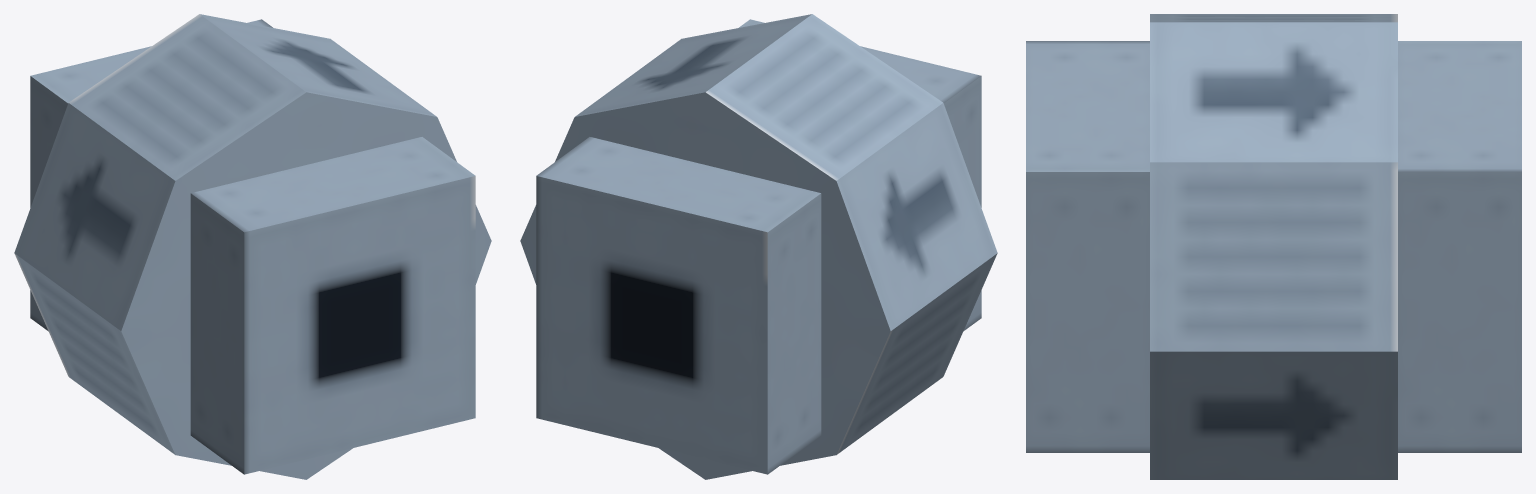
The model's file is AdvancedFluidInserter.dae.
3 views of the same model, side by side, from view 1: azimuth 30°, elevation 25°; view 2: azimuth 150°, elevation 25°; view 3: azimuth 270°, elevation 25° (orthographic). The views are drawn at different scales.
Parts seen in each view (by area): view 1: Inserter; view 2: Inserter; view 3: Inserter.
Boxes of the visible parts, box(x1,y1,x2,y2) form: Inserter: box(14, 14, 491, 479); Inserter: box(520, 14, 997, 479); Inserter: box(1026, 14, 1521, 479).
Bounding box in the file's own units: 1 × 1 × 1.
1 material, 1 textured.
